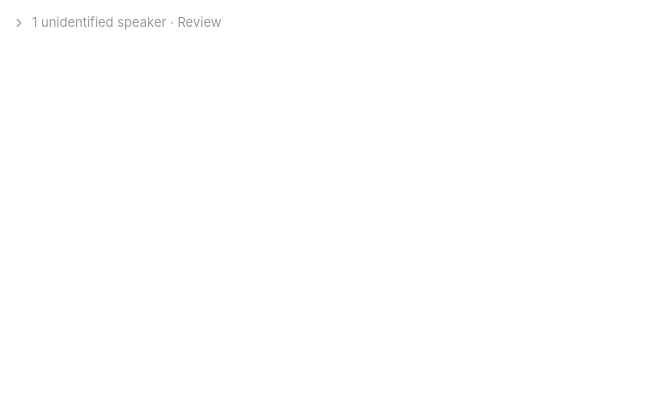
Test: identity controls › does not offer the workspace user or their nicknames as remote attendee choices
Click the button "1 unidentified speaker · Review": (117, 23) x1=12 y1=13 x2=221 y2=33
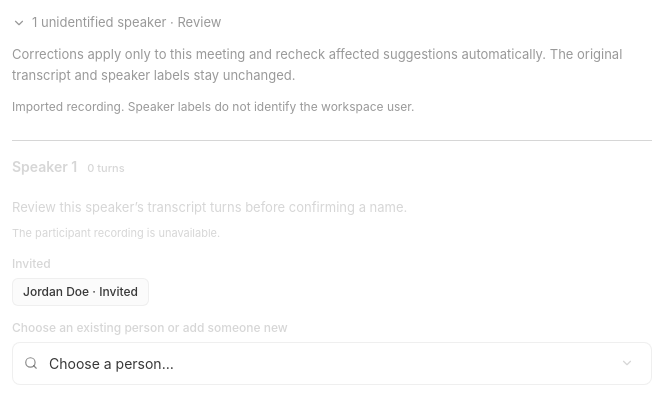
Expected: the text "Jordan Doe · Invited" is shown, x1=12 y1=278 x2=149 y2=306
